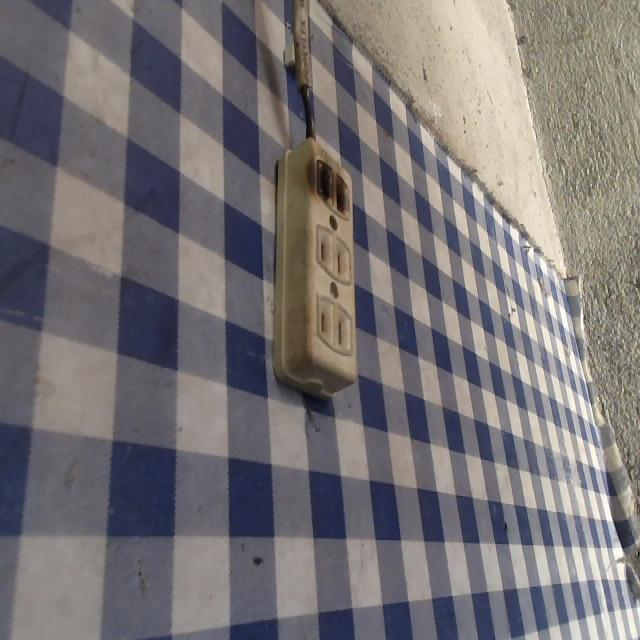-: (300, 149, 361, 224)
